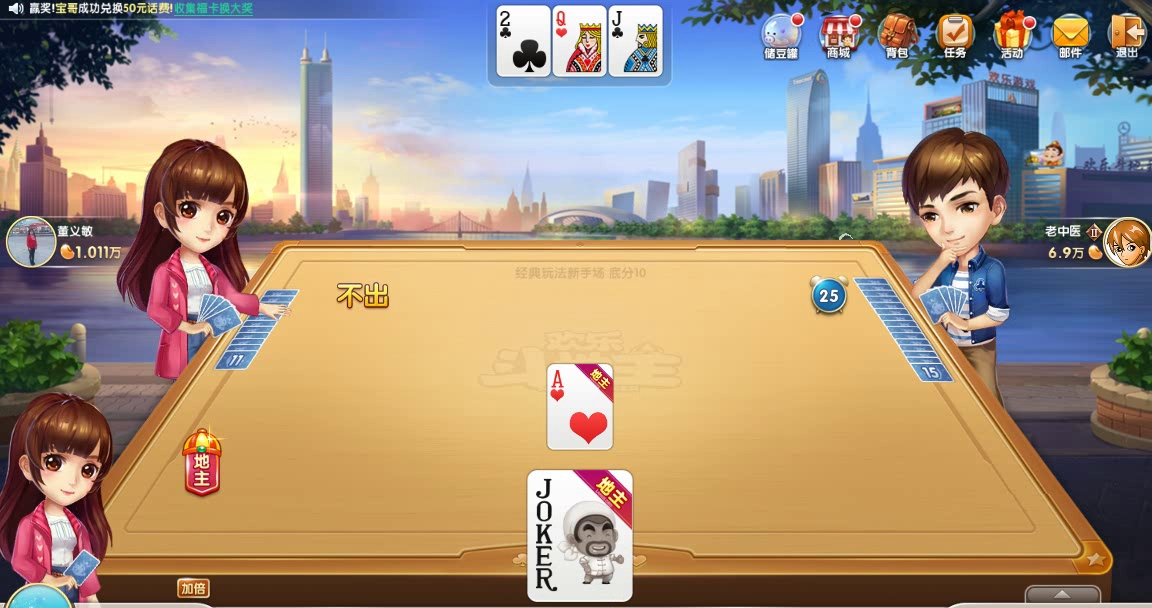11~2: (607, 4, 662, 77)
12~3: (551, 4, 606, 77)
14~3: (545, 363, 615, 451)
15~2: (495, 4, 550, 77)
17~3: (526, 470, 632, 601)
